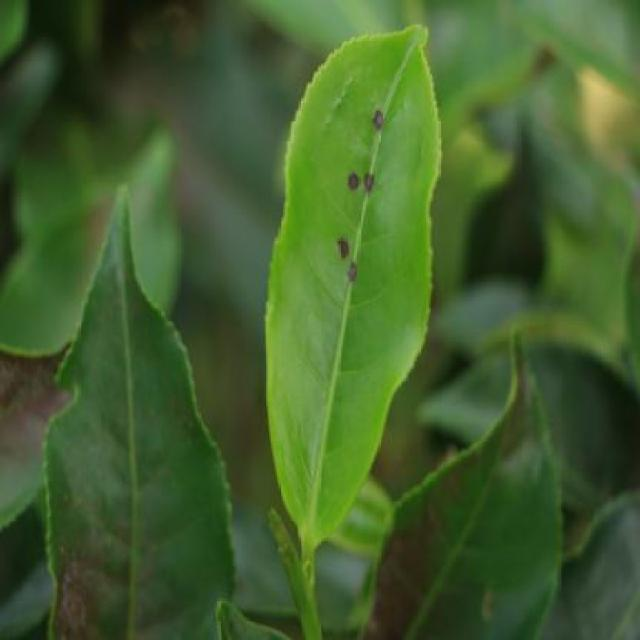Tea Mosquito bug infested leaf: (245, 31, 444, 554)
